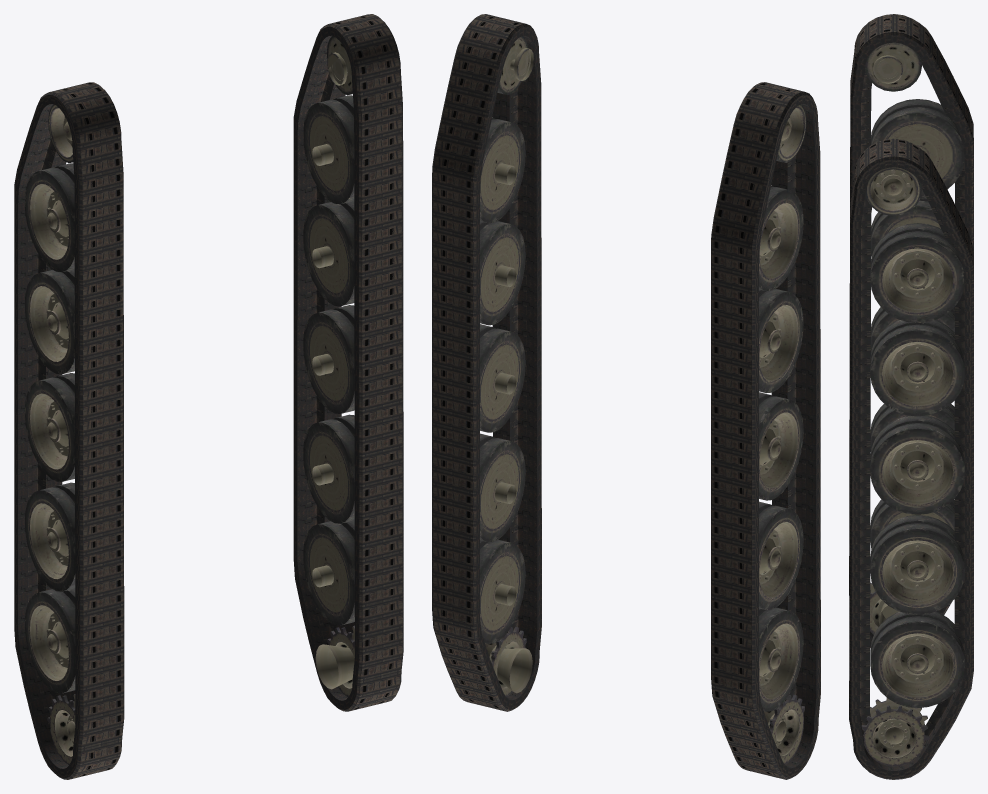
Rendered from Chassis.glb.
3 views of the same model, side by side, from view 1: azimuth 30°, elevation 25°; view 2: azimuth 150°, elevation 25°; view 3: azimuth 270°, elevation 25° (orthographic). The views are drawn at different scales.
Parts seen in each view (by area): view 1: set_1_group_0, set_0_group_0, set_2_group_0, set_3_group_0; view 2: set_1_group_0, set_0_group_0, set_2_group_0, set_3_group_0; view 3: set_2_group_0, set_0_group_0, set_3_group_0, set_1_group_0.
Boxes of the visible parts, bbox=[...] form: set_1_group_0: bbox=[14, 82, 124, 779]; set_0_group_0: bbox=[293, 14, 403, 711]; set_2_group_0: bbox=[303, 36, 354, 697]; set_3_group_0: bbox=[25, 104, 75, 764]; set_1_group_0: bbox=[711, 82, 820, 779]; set_0_group_0: bbox=[432, 14, 541, 711]; set_2_group_0: bbox=[480, 36, 534, 696]; set_3_group_0: bbox=[759, 104, 806, 764]; set_2_group_0: bbox=[861, 167, 964, 766]; set_0_group_0: bbox=[849, 138, 973, 779]; set_3_group_0: bbox=[865, 42, 964, 634]; set_1_group_0: bbox=[849, 14, 973, 648].
Size of the model in its own units: 2.89 by 5.82 by 1.05.
Materials: 4 (4 with a texture image).
